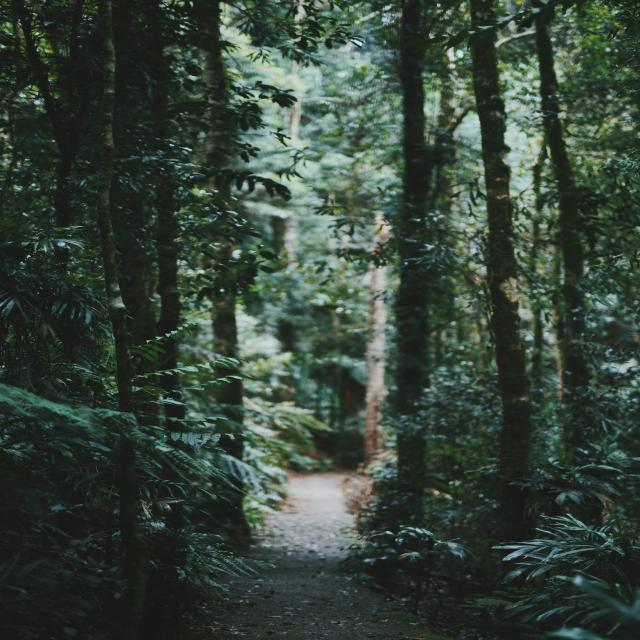Forest: (1, 5, 640, 640)
